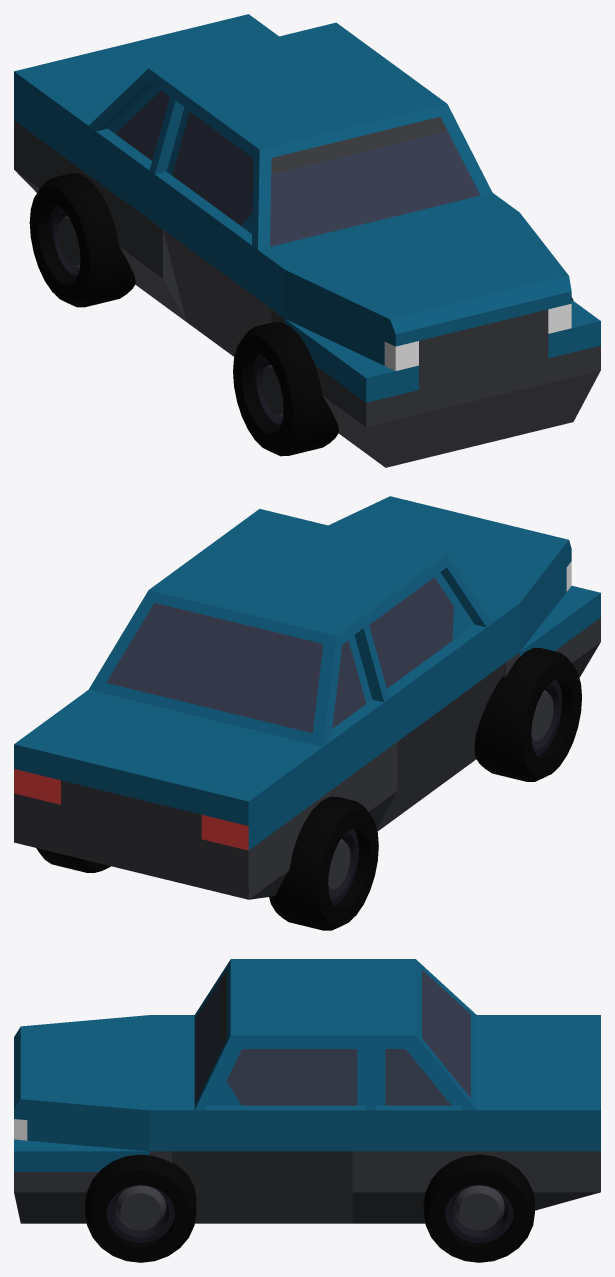
Rendered from sedan.fbx.
3 views of the same model, one above another, from view 1: azimuth 30°, elevation 25°; view 2: azimuth 150°, elevation 25°; view 3: azimuth 270°, elevation 25° (orthographic). The views are drawn at different scales.
Visible parts, largest first — view 1: mergedBlocks; view 2: mergedBlocks; view 3: mergedBlocks.
Boxes of the visible parts, <box> form: mergedBlocks: <box>14,14,600,467</box>; mergedBlocks: <box>14,496,600,930</box>; mergedBlocks: <box>14,959,600,1262</box>.
Size of the model in its own units: 12.33 by 10.28 by 26.
